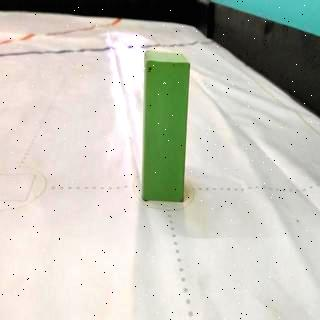greenbox: (142, 48, 191, 201)
